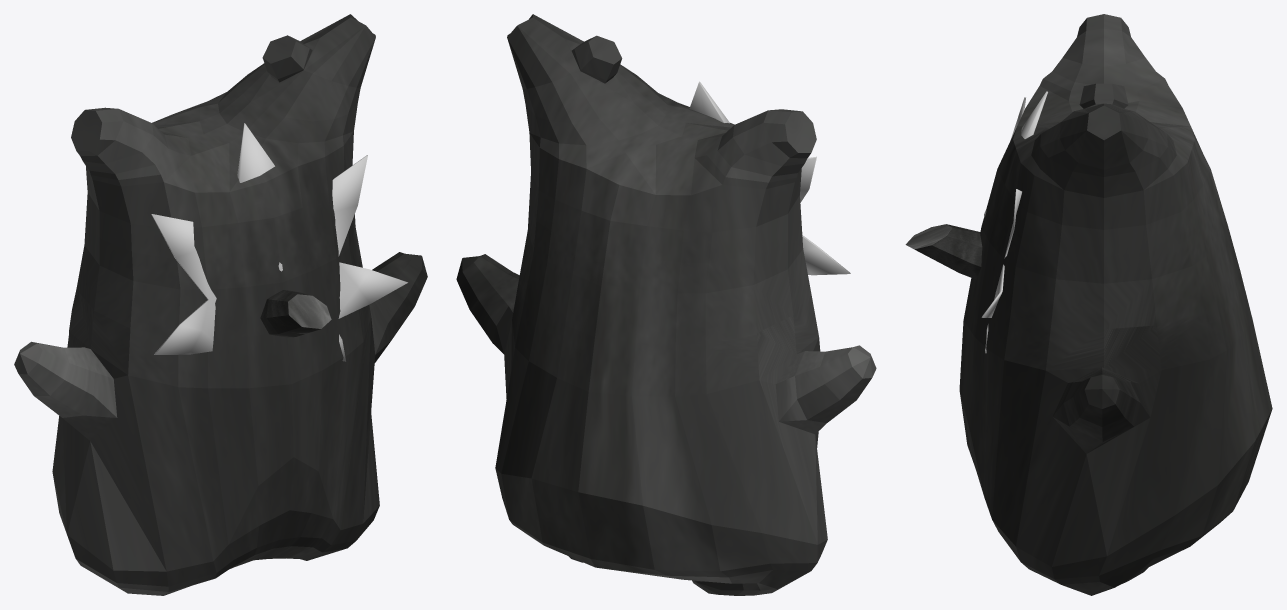
Rendered from frame_0048.obj.
3 renders of one model, left to right at view 1: azimuth 30°, elevation 25°; view 2: azimuth 150°, elevation 25°; view 3: azimuth 270°, elevation 25°, orthographic. The views are drawn at different scales.
Parts seen in each view (by area): view 1: korok, leaf, nose; view 2: korok, leaf; view 3: korok, nose, leaf.
Part boxes in pixels (box(x1,y1,x2,y2)): korok: box(14, 14, 427, 595); leaf: box(151, 123, 407, 361); nose: box(260, 290, 331, 337); korok: box(456, 14, 876, 595); leaf: box(689, 81, 850, 275); korok: box(959, 14, 1272, 595); nose: box(905, 224, 982, 279); leaf: box(981, 91, 1047, 353).
Bounding box in the file's own units: 1.68 × 2.05 × 1.34.
